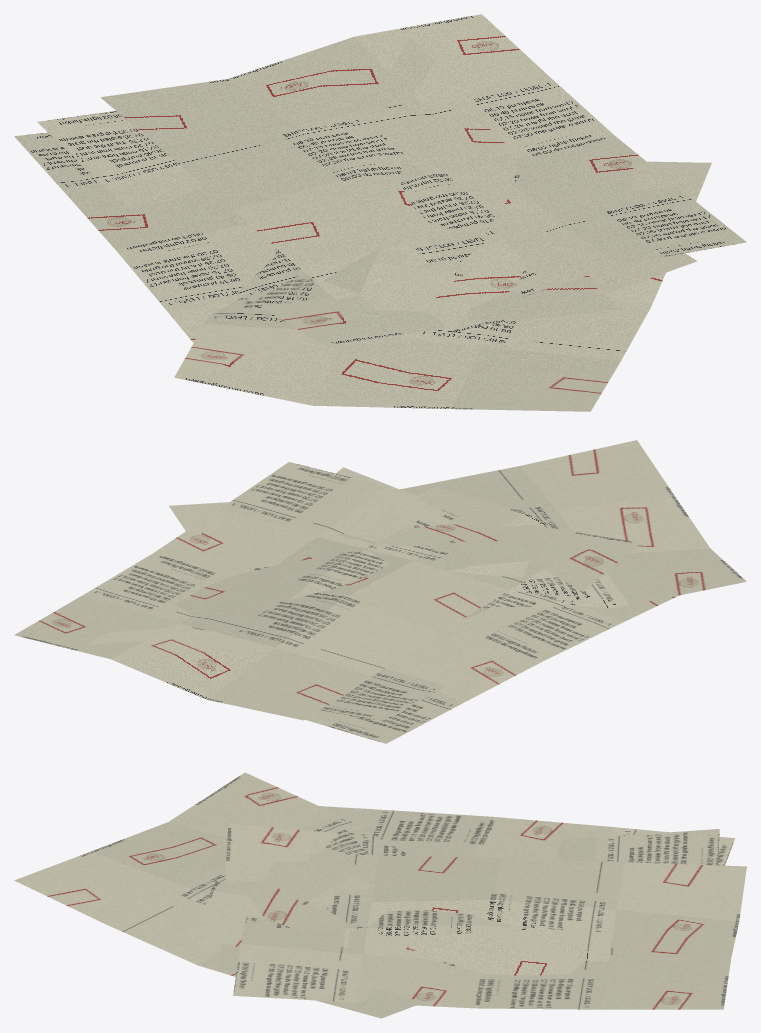
The model's file is PRP_Paper_Pile_C.glb.
3 renders of one model, top to bottom at view 1: azimuth 30°, elevation 25°; view 2: azimuth 150°, elevation 25°; view 3: azimuth 270°, elevation 25°, orthographic. The views are drawn at different scales.
Parts seen in each view (by area): view 1: Sheet3, Sheet1, Sheet2, Sheet0; view 2: Sheet3, Sheet1, Sheet2, Sheet0; view 3: Sheet3, Sheet1, Sheet2, Sheet0.
Boxes of the visible parts, bbox=[...] form: Sheet3: bbox=[100, 14, 746, 311]; Sheet1: bbox=[174, 161, 711, 411]; Sheet2: bbox=[37, 38, 697, 345]; Sheet0: bbox=[14, 98, 619, 342]; Sheet3: bbox=[14, 462, 549, 720]; Sheet1: bbox=[169, 440, 746, 608]; Sheet2: bbox=[86, 467, 640, 720]; Sheet0: bbox=[235, 486, 678, 743]; Sheet3: bbox=[233, 853, 746, 1009]; Sheet1: bbox=[14, 772, 457, 1018]; Sheet2: bbox=[219, 823, 719, 979]; Sheet0: bbox=[191, 806, 734, 947].
Bounding box in the file's own units: 0.7086 × 0.0313 × 0.8855.
Materials: 1 (1 with a texture image).
